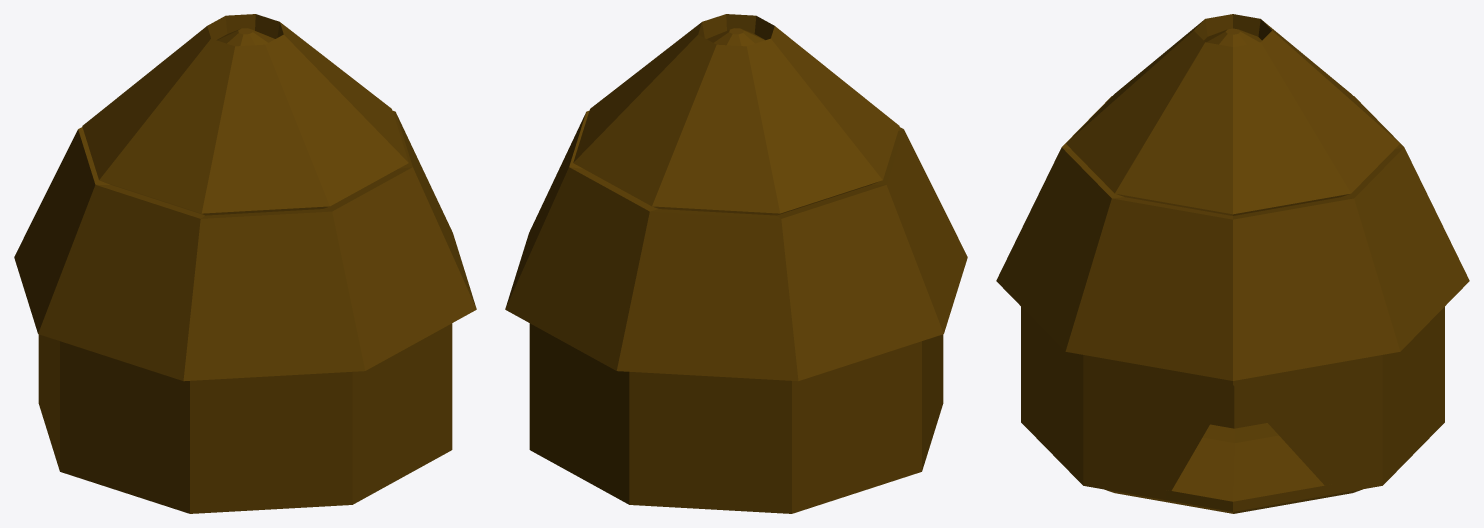
Rendered from tent.fbx.
3 renders of one model, left to right at view 1: azimuth 30°, elevation 25°; view 2: azimuth 150°, elevation 25°; view 3: azimuth 270°, elevation 25°, orthographic.
Visible parts, largest first — view 1: Circle; view 2: Circle; view 3: Circle.
Boxes of the visible parts, <box> form: Circle: <box>14,14,476,513</box>; Circle: <box>505,14,967,513</box>; Circle: <box>996,14,1469,513</box>.
Bounding box in the file's own units: 224 × 213 × 224.
